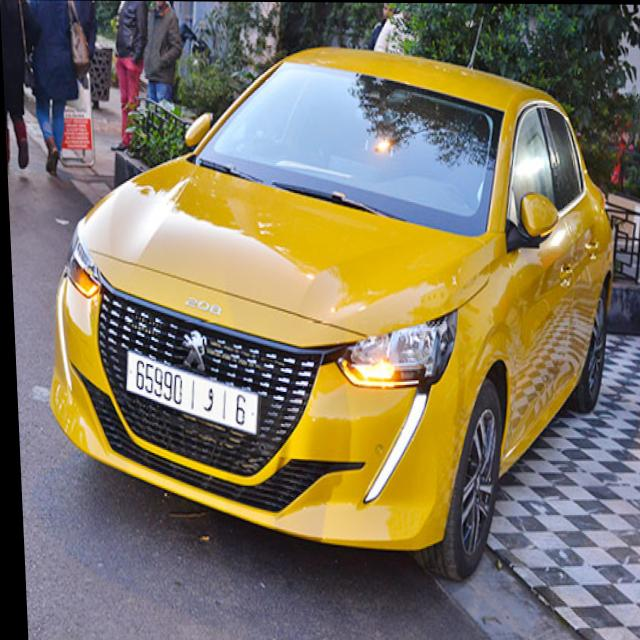License-Plate: (124, 350, 253, 433)
